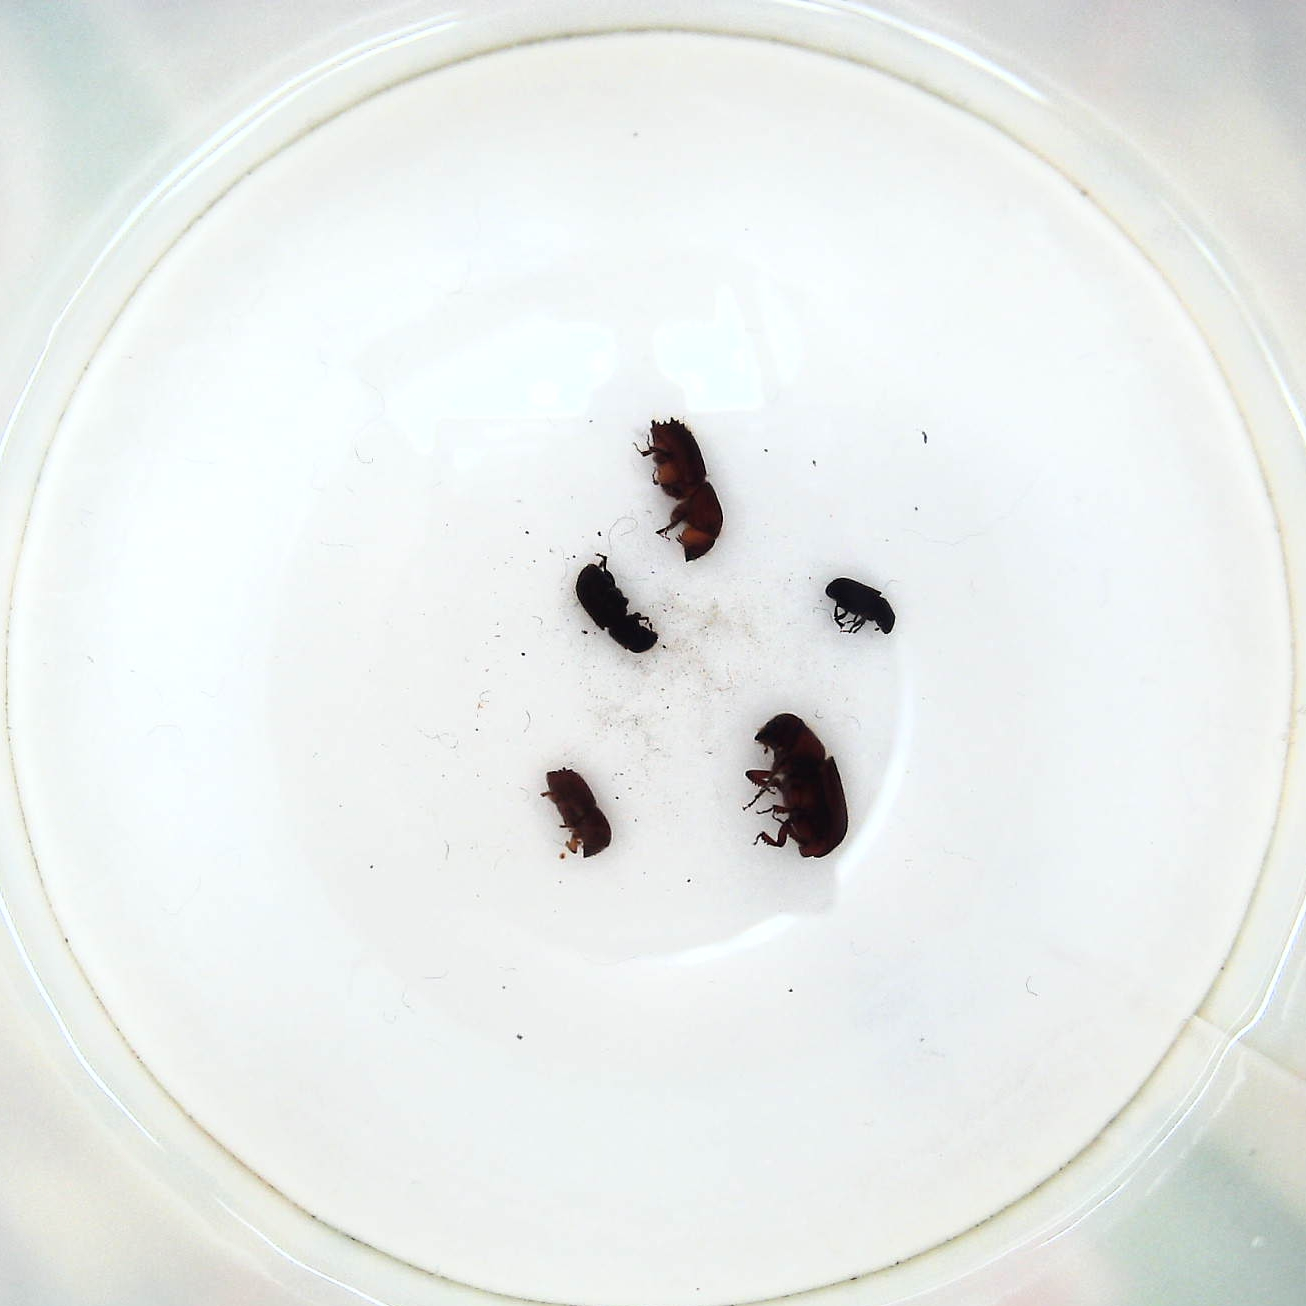Boerner: (636, 411, 731, 568)
Leconte: (746, 712, 853, 865)
armandi: (575, 559, 665, 657)
coleoptera: (826, 578, 907, 641)
linnaeus: (538, 765, 614, 868)
